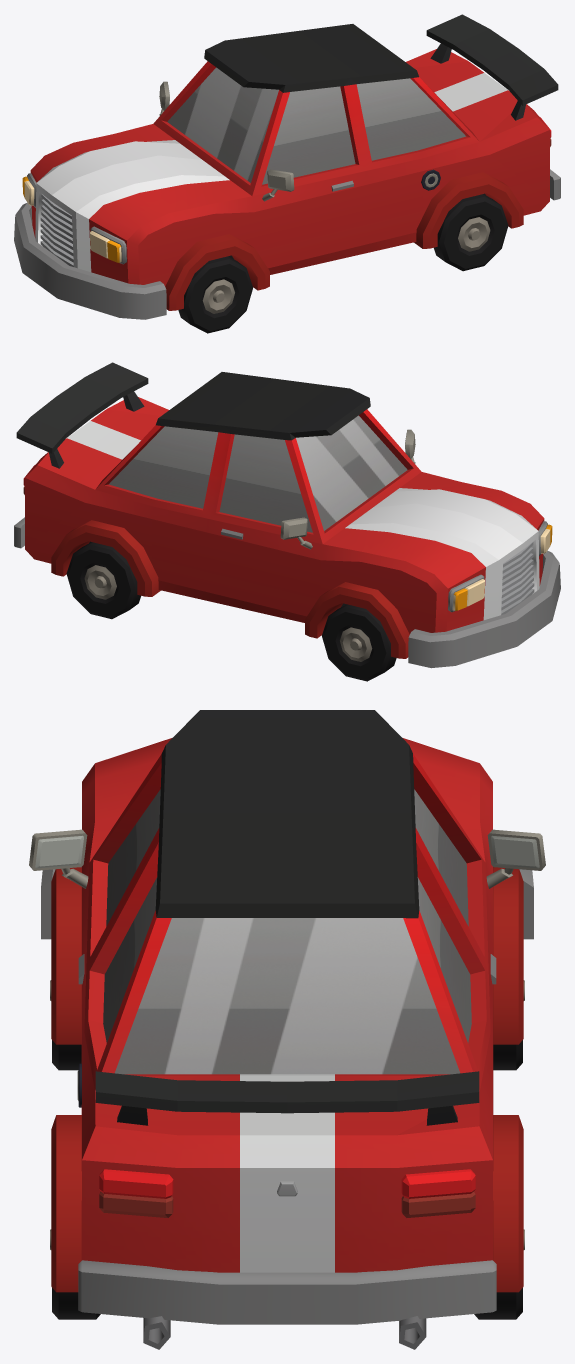
The model's file is Car_1_B.gltf.
3 renders of one model, top to bottom at view 1: azimuth 30°, elevation 25°; view 2: azimuth 150°, elevation 25°; view 3: azimuth 270°, elevation 25°, orthographic. The views are drawn at different scales.
Parts seen in each view (by area): view 1: Car_1_B, RL, FL; view 2: Car_1_B, RR, FR; view 3: Car_1_B, RL, RR, FR, FL.
Part boxes in pixels (x1,y1,x2,y2): Car_1_B: (14,14,560,319); RL: (434,194,508,271); FL: (178,256,252,333); Car_1_B: (14,362,560,668); RR: (66,542,140,619); FR: (322,604,396,681); Car_1_B: (29,710,545,1349); RL: (50,1229,100,1319); RR: (474,1229,524,1319); FR: (493,980,524,1070); FL: (50,980,81,1070).
Bounding box in the file's own units: 3.64 × 1.5 × 1.7.
4 materials, 4 textured.
